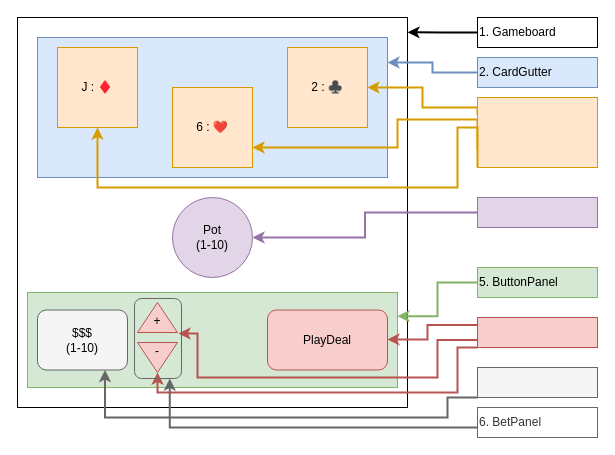
This 615x455 diagram has some shape labels left out. Each missing label, with the box of its shape:
3. Cards -Top -Mid -Bottom: (476, 96, 598, 168)
4. Pot: (476, 196, 598, 228)
6. BetDisplay: (476, 366, 598, 398)
7. Buttons: (476, 316, 598, 348)
